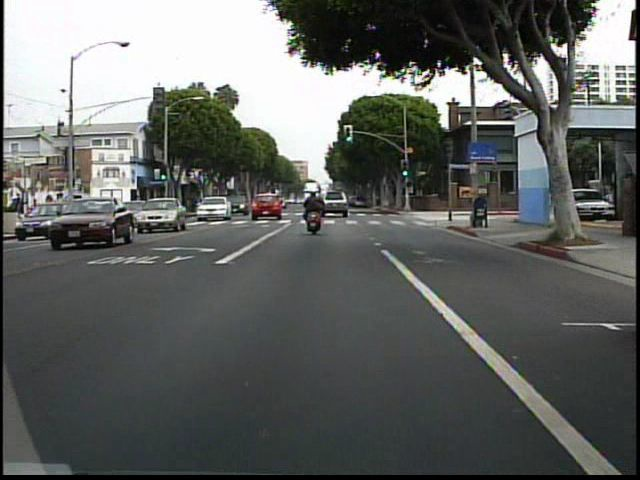person: (301, 185, 329, 238)
